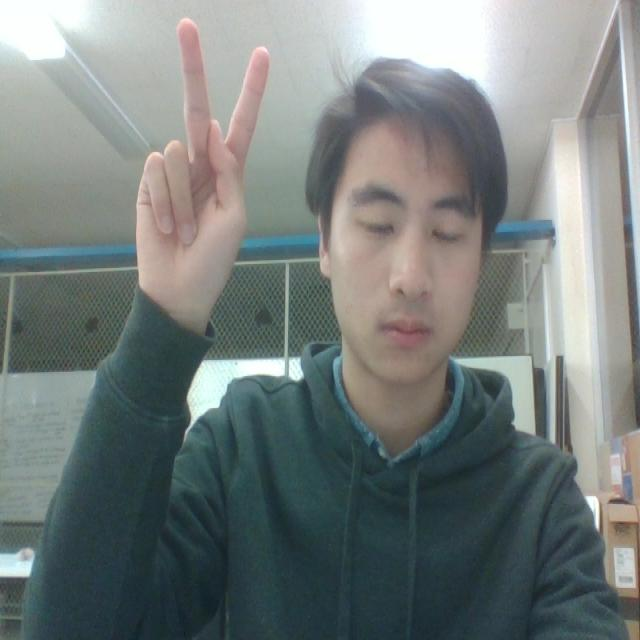K: (130, 20, 296, 361)
